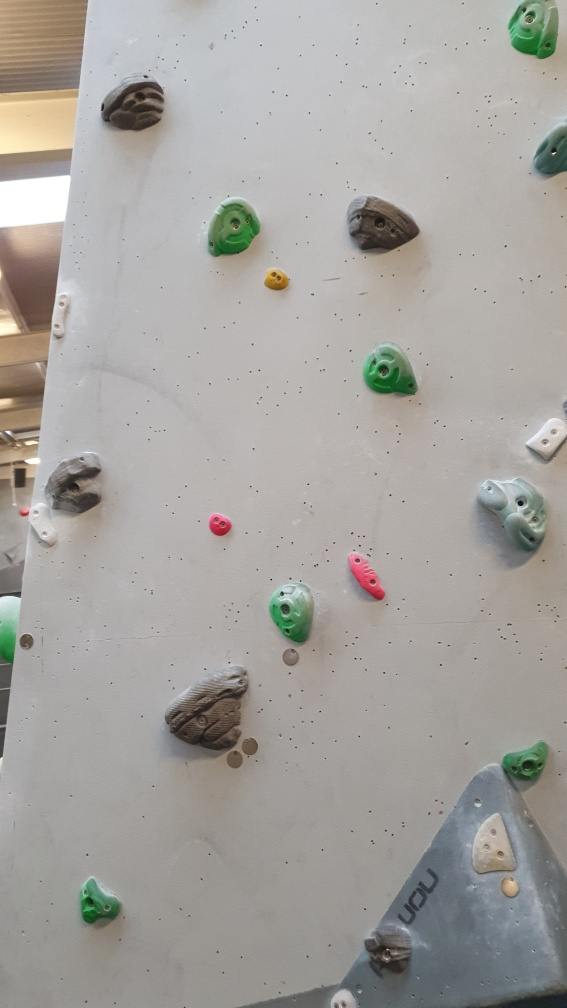Crimp: (521, 413, 567, 464), (346, 549, 386, 604), (49, 296, 74, 339)
Hand Start: (496, 872, 523, 899), (223, 747, 246, 769), (242, 736, 263, 759), (280, 644, 300, 666), (19, 629, 36, 652)
Jug: (163, 664, 245, 750), (474, 472, 551, 552), (345, 196, 421, 254), (505, 1, 566, 67), (204, 195, 264, 261), (44, 452, 107, 513), (100, 73, 167, 130), (360, 342, 424, 400), (265, 581, 314, 643), (502, 737, 554, 780)
Pinch: (205, 511, 234, 537)
